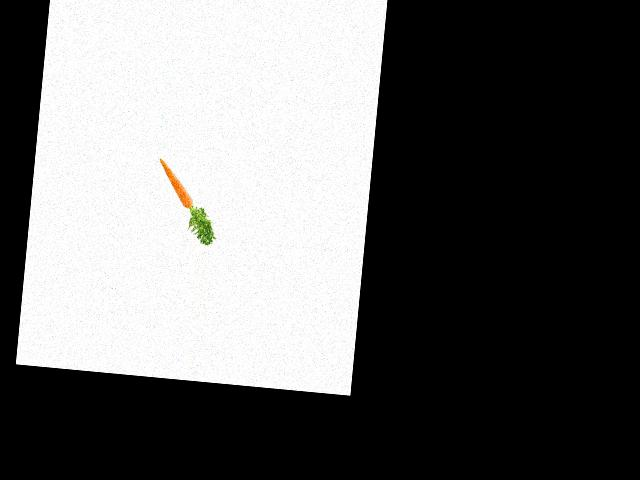carrot: (153, 157, 198, 214)
